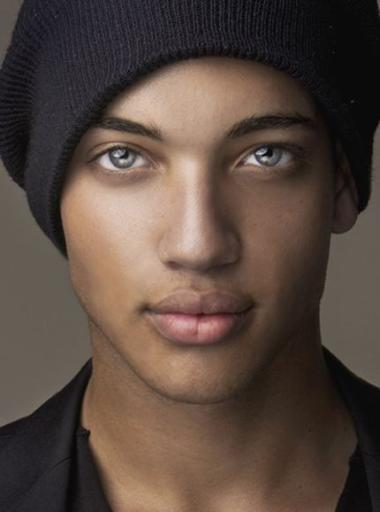left_eye: (235, 139, 310, 173)
left_lip_corner: (245, 296, 263, 320)
right_eye: (89, 144, 161, 180)
right_lip_corner: (135, 298, 160, 324)
